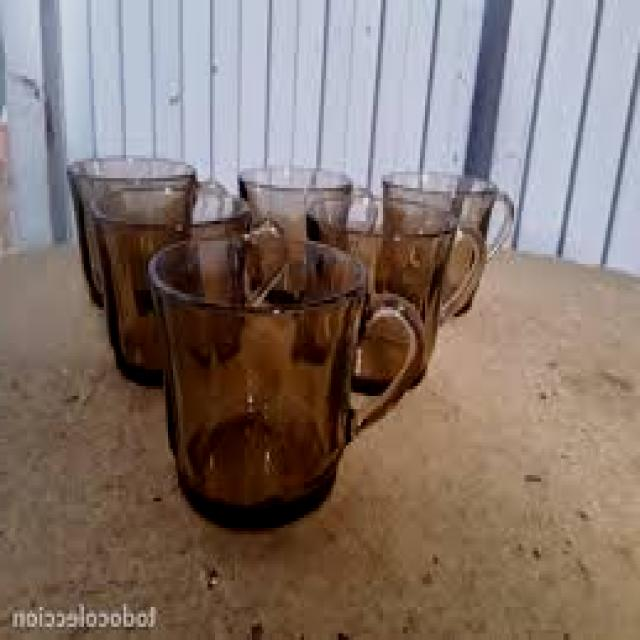inorganic: (149, 231, 428, 525), (314, 188, 458, 392), (67, 158, 196, 310), (236, 162, 356, 304), (441, 176, 510, 317)
